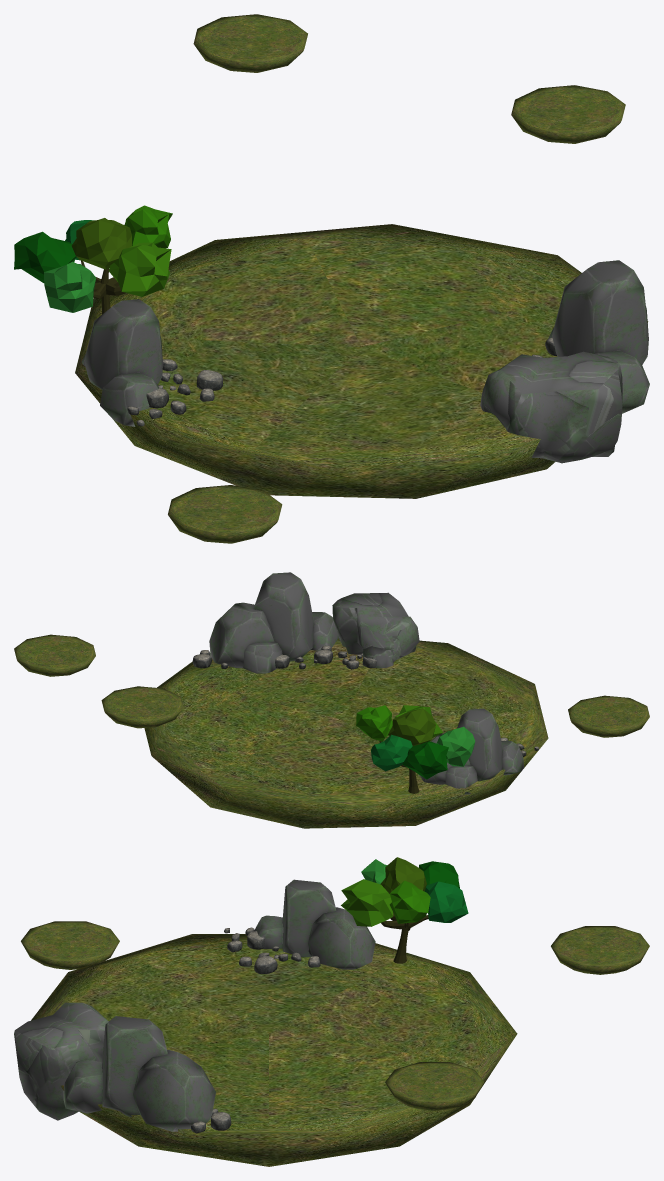
File: Final_Dream1_AllIsland_RocksTrees.glb
3 renders of one model, top to bottom at view 1: azimuth 30°, elevation 25°; view 2: azimuth 150°, elevation 25°; view 3: azimuth 270°, elevation 25°, orthographic. The views are drawn at different scales.
Parts seen in each view (by area): view 1: MainIsland, Ireland Rock Photoscan, defaultMaterial.005, defaultMaterial.001, MiniIsland1, MiniIsland2, MiniIsland3, Icosphere.004_0, Icosphere_0, Icosphere.002_0, Icosphere.001_0, defaultMaterial (+2 smaller); view 2: MainIsland, Ireland Rock Photoscan, defaultMaterial.005, defaultMaterial.007, MiniIsland3, MiniIsland1, MiniIsland2, defaultMaterial.001, Icosphere.001_0, Icosphere_0, Icosphere.005_0, Icosphere.002_0 (+5 smaller); view 3: MainIsland, Ireland Rock Photoscan, defaultMaterial.007, defaultMaterial.005, MiniIsland1, MiniIsland3, MiniIsland2, defaultMaterial.003, defaultMaterial.001, defaultMaterial.004, Icosphere.004_0, Icosphere.005_0 (+5 smaller).
Boxes of the visible parts, bbox=[...] form: MainIsland: bbox=[75, 224, 648, 498]; Ireland Rock Photoscan: bbox=[480, 351, 622, 463]; defaultMaterial.005: bbox=[552, 260, 648, 364]; defaultMaterial.001: bbox=[84, 299, 162, 389]; MiniIsland1: bbox=[511, 85, 625, 143]; MiniIsland2: bbox=[168, 485, 282, 543]; MiniIsland3: bbox=[193, 14, 307, 72]; Icosphere.004_0: bbox=[108, 242, 171, 296]; Icosphere_0: bbox=[71, 218, 131, 269]; Icosphere.002_0: bbox=[44, 261, 95, 312]; Icosphere.001_0: bbox=[14, 231, 76, 282]; defaultMaterial: bbox=[100, 373, 158, 426]; MainIsland: bbox=[144, 638, 548, 828]; Ireland Rock Photoscan: bbox=[332, 592, 419, 668]; defaultMaterial.005: bbox=[253, 572, 314, 661]; defaultMaterial.007: bbox=[209, 602, 274, 668]; MiniIsland3: bbox=[101, 686, 183, 728]; MiniIsland1: bbox=[14, 634, 95, 676]; MiniIsland2: bbox=[568, 695, 649, 737]; defaultMaterial.001: bbox=[457, 708, 502, 781]; Icosphere.001_0: bbox=[402, 741, 448, 779]; Icosphere_0: bbox=[388, 708, 435, 745]; Icosphere.005_0: bbox=[371, 734, 412, 771]; Icosphere.002_0: bbox=[436, 726, 475, 766]; MainIsland: bbox=[31, 934, 517, 1166]; Ireland Rock Photoscan: bbox=[14, 1002, 108, 1120]; defaultMaterial.007: bbox=[133, 1049, 215, 1131]; defaultMaterial.005: bbox=[102, 1016, 167, 1117]; MiniIsland1: bbox=[385, 1062, 484, 1110]; MiniIsland3: bbox=[551, 926, 649, 974]; MiniIsland2: bbox=[21, 921, 119, 969]; defaultMaterial.003: bbox=[308, 907, 375, 969]; defaultMaterial.001: bbox=[282, 879, 336, 957]; defaultMaterial.004: bbox=[63, 1060, 102, 1113]; Icosphere.004_0: bbox=[341, 879, 393, 926]; Icosphere.005_0: bbox=[424, 881, 468, 922].
Bounding box in the file's own units: 60.49 × 21.79 × 60.02.
11 materials, 4 textured.
